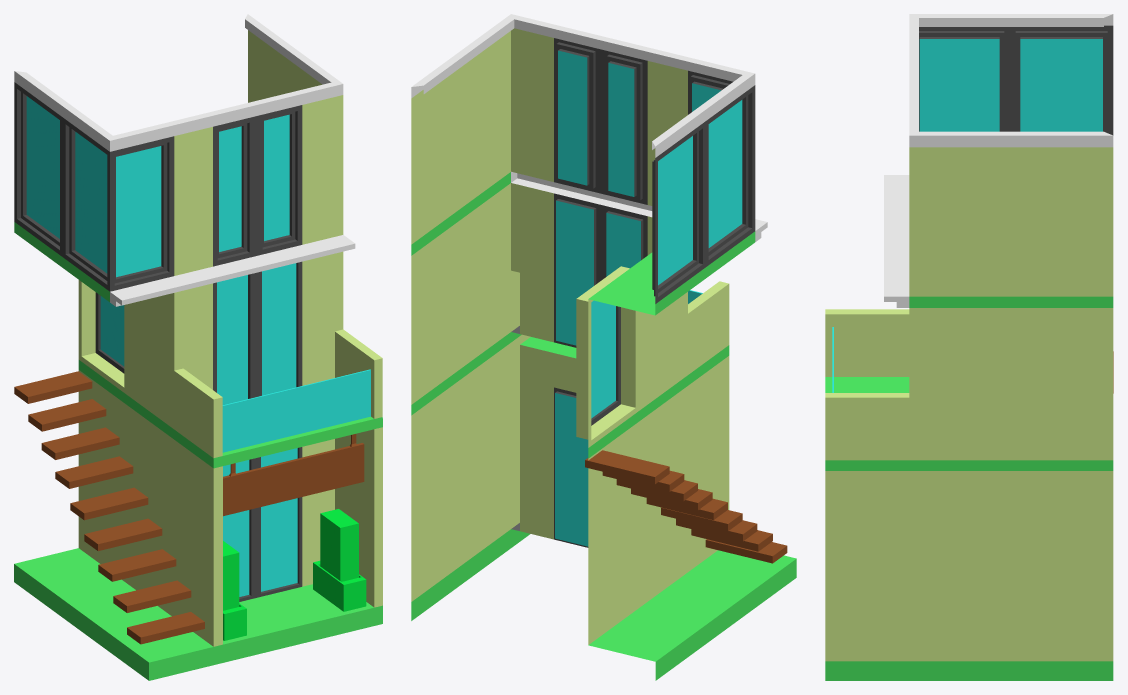
File: Building_3.FBX
The picture shows the model from 3 angles, left to right: view 1: azimuth 30°, elevation 25°; view 2: azimuth 150°, elevation 25°; view 3: azimuth 270°, elevation 25°; orthographic projection. The views are drawn at different scales.
Parts seen in each view (by area): view 1: Building_3; view 2: Building_3; view 3: Building_3.
Boxes of the visible parts, bbox=[...] form: Building_3: bbox=[14, 14, 382, 680]; Building_3: bbox=[411, 14, 796, 680]; Building_3: bbox=[825, 14, 1113, 680].
Bounding box in the file's own units: 400 × 401 × 836.
